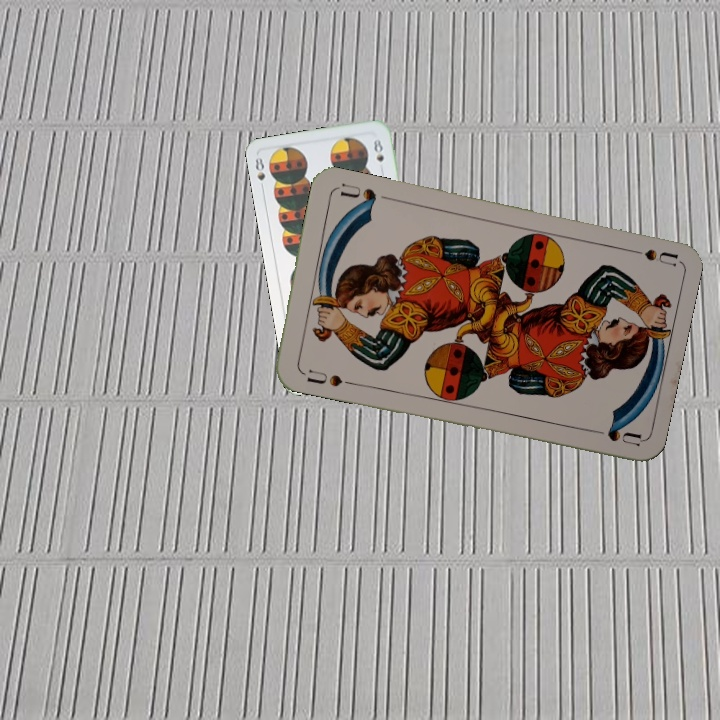S8: (251, 154, 268, 194)
SU: (619, 243, 678, 269), (303, 365, 345, 390)
